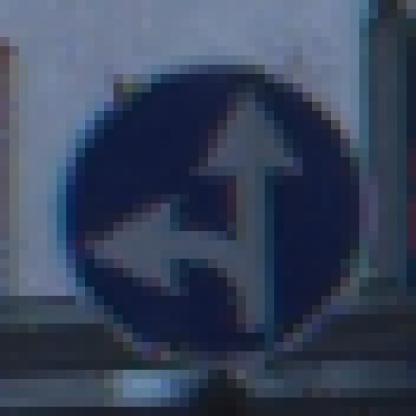Straight or Left: (48, 56, 370, 371)
